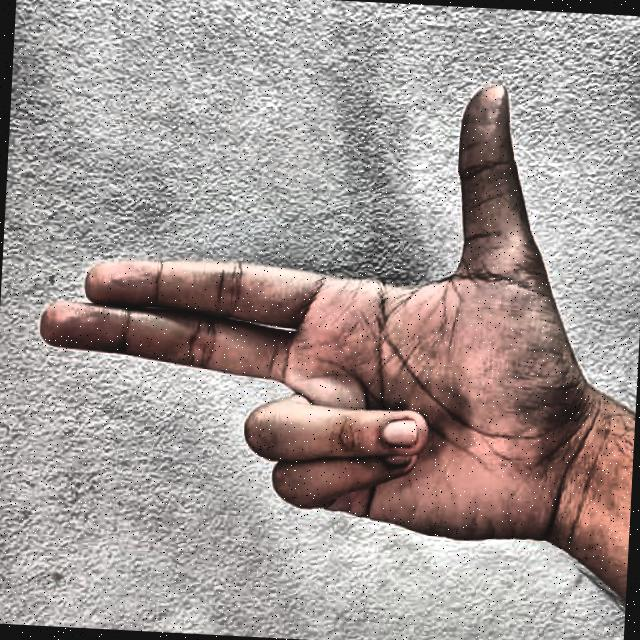Jha: (14, 38, 617, 640)
